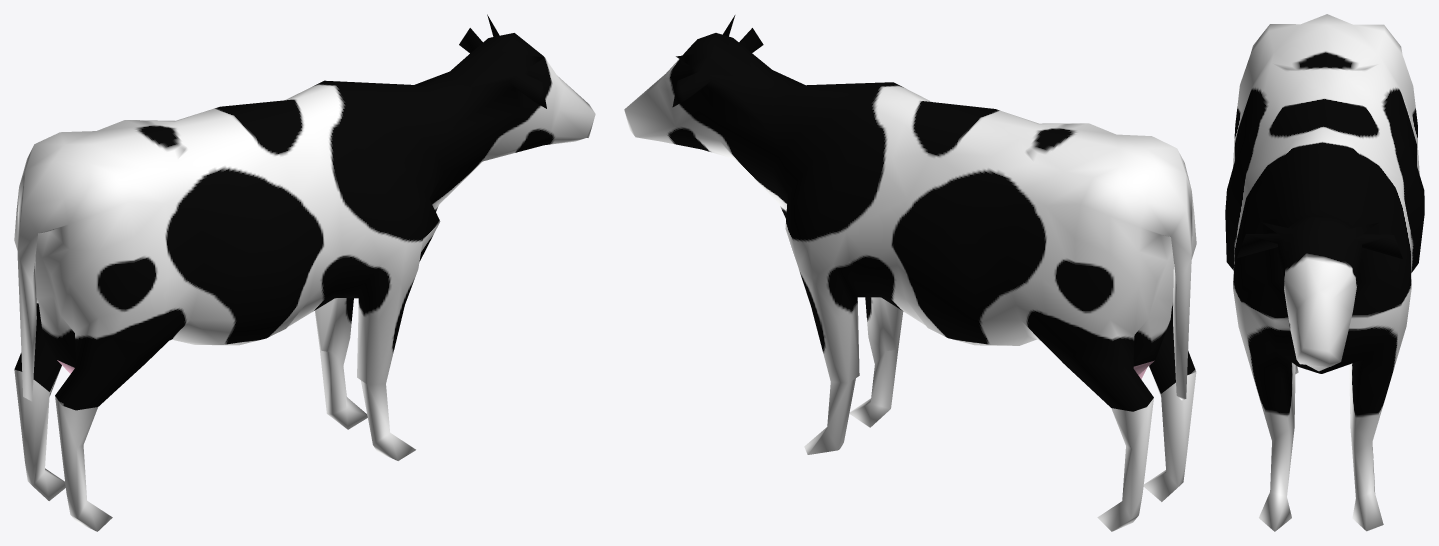
The model's file is cow.obj.
3 views of the same model, side by side, from view 1: azimuth 30°, elevation 25°; view 2: azimuth 150°, elevation 25°; view 3: azimuth 270°, elevation 25° (orthographic).
Parts seen in each view (by area): view 1: Cow_cow; view 2: Cow_cow; view 3: Cow_cow.
Boxes of the visible parts, x1,y1,x2,y2 form: Cow_cow: (14,14,595,531); Cow_cow: (624,15,1196,531); Cow_cow: (1225,14,1424,531).
Bounding box in the file's own units: 1.58 × 0.9817 × 0.4766.
